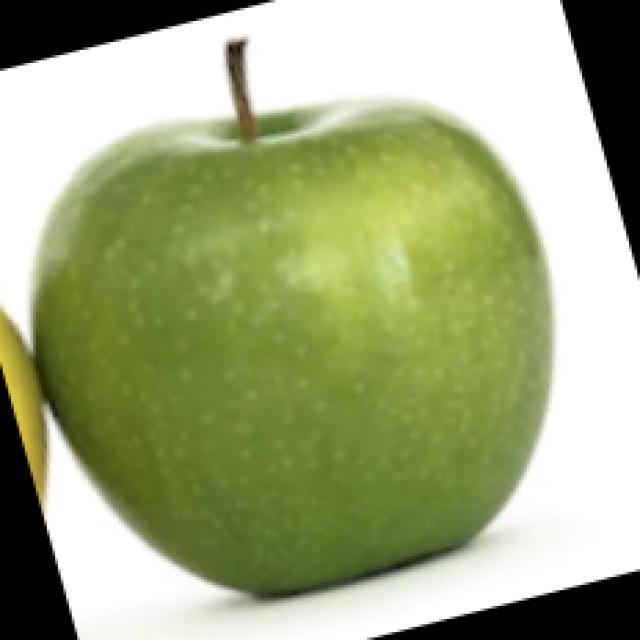Fresh Apple: (40, 94, 567, 588)
